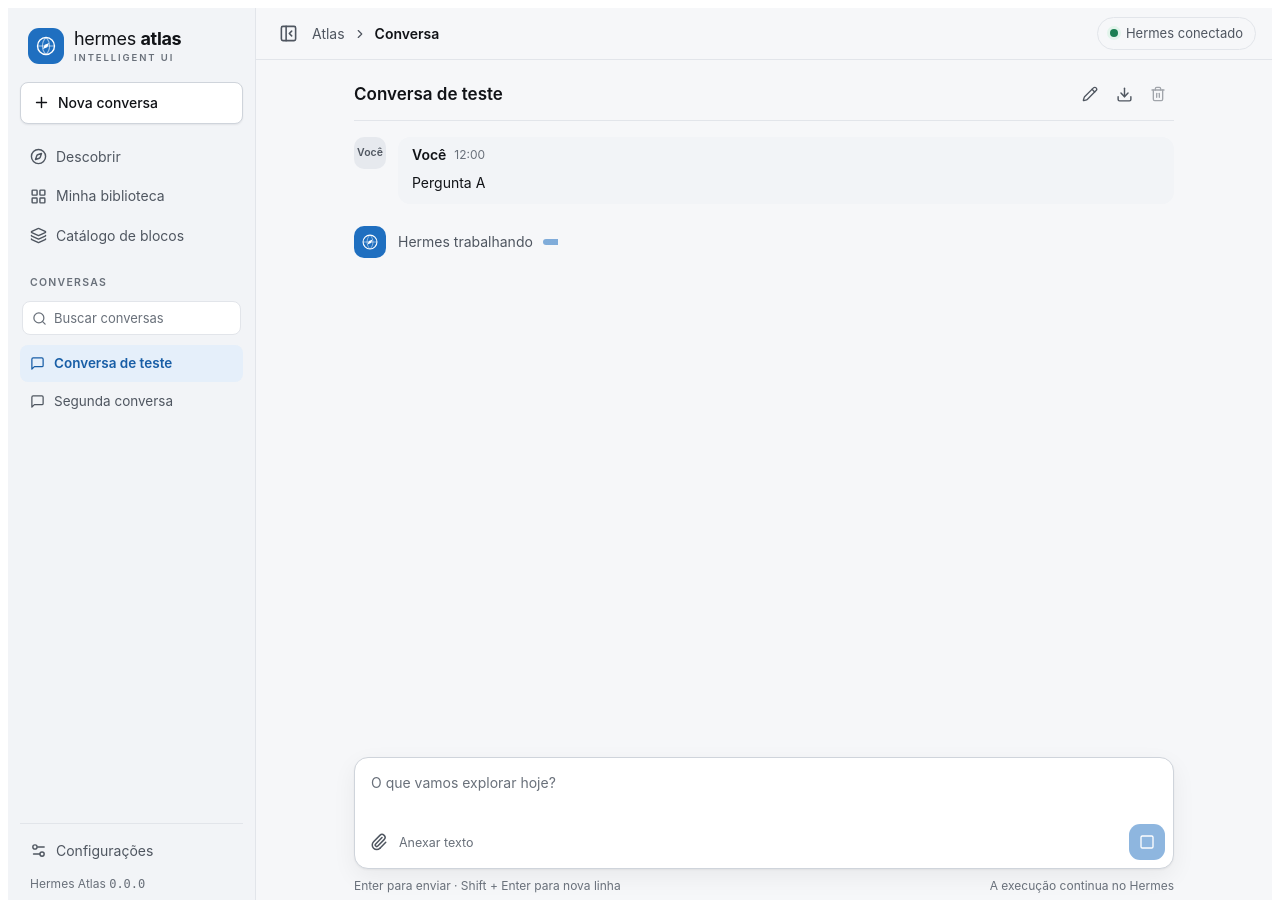
Test: discards the old terminal result when the conversation changes during a pending poll
Click the button "Segunda conversa" at (132, 401), box [20,383,243,420]
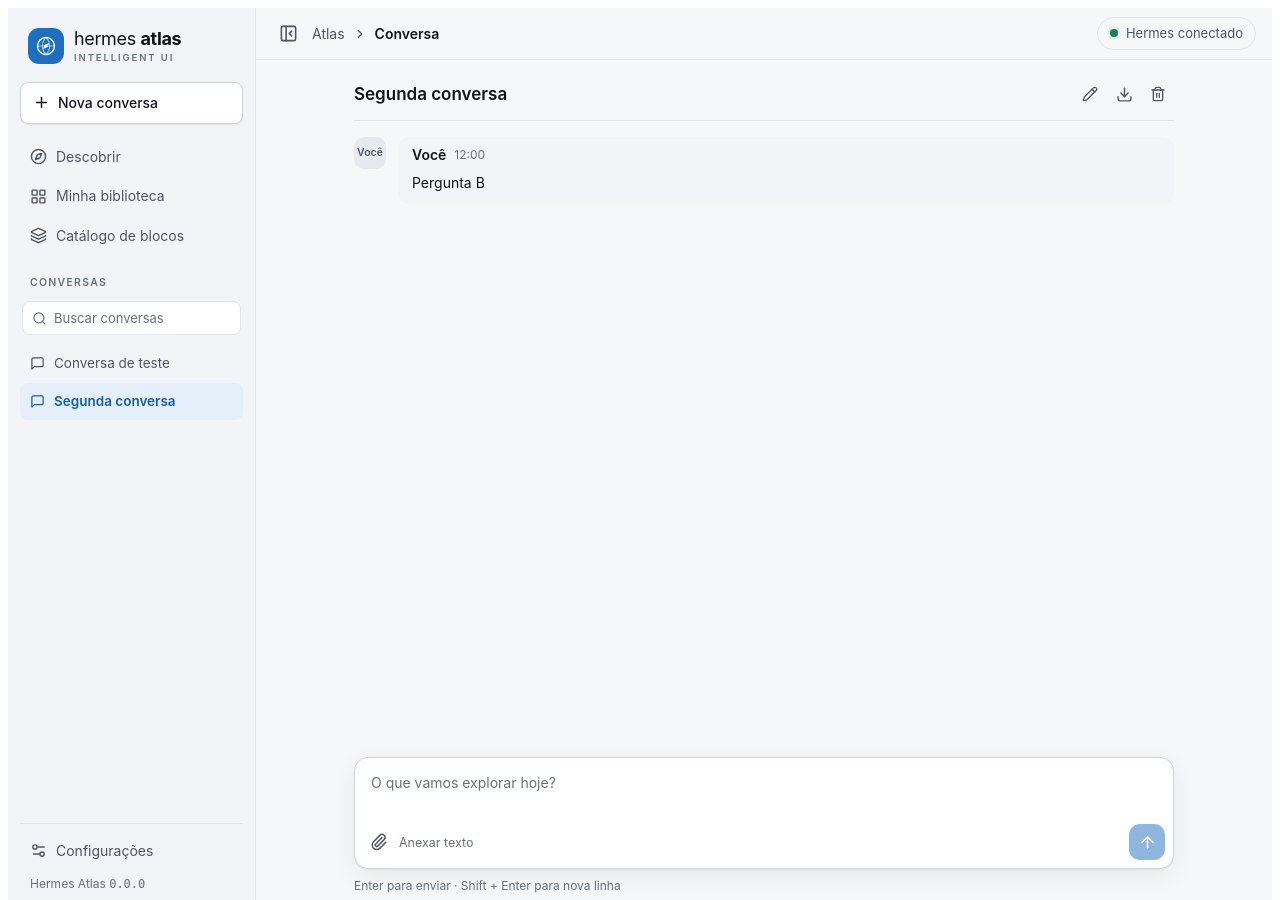
Now the text "Pergunta B" is shown, box [412,174,485,191]
Now the text "Pergunta A" is gone
